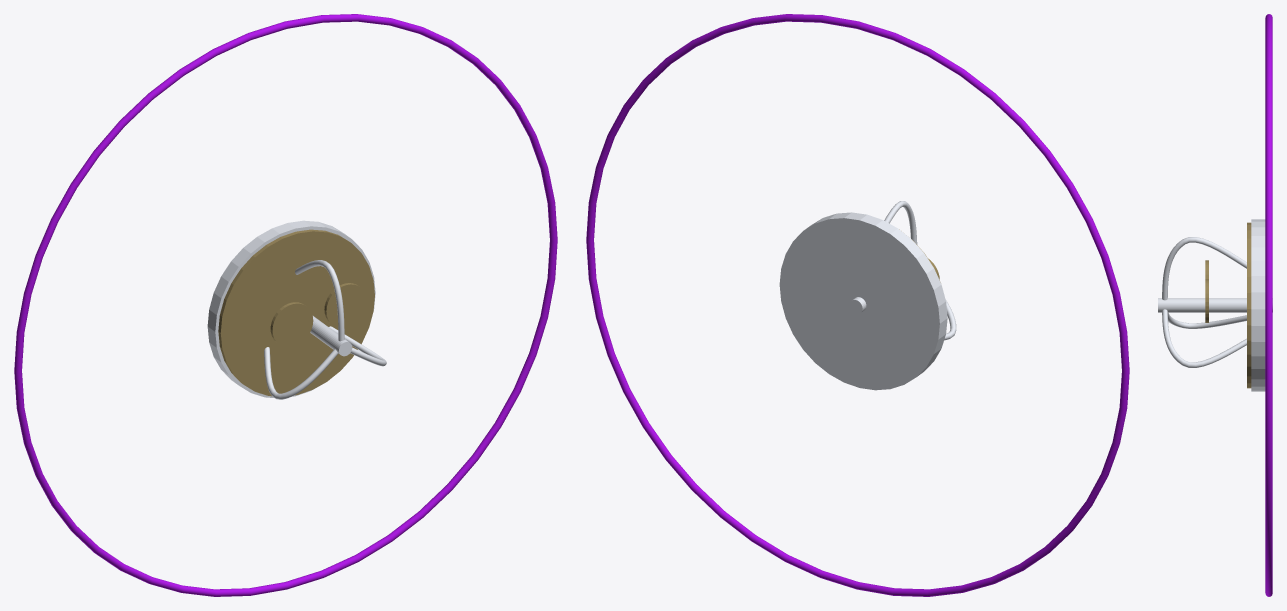
The model's file is adanat-18603.glb.
3 renders of one model, left to right at view 1: azimuth 30°, elevation 25°; view 2: azimuth 150°, elevation 25°; view 3: azimuth 270°, elevation 25°, orthographic. The views are drawn at different scales.
Visible parts, largest first — view 1: Cylinder.182, _outline.025, Cylinder.181, BézierCurve.001, Cylinder.184, Cylinder.183, Cylinder.180; view 2: Cylinder.181, _outline.025, BézierCurve.001; view 3: _outline.025, Cylinder.181, BézierCurve.001, Cylinder.180, Cylinder.182, Cylinder.183.
Boxes of the visible parts, <box> form: Cylinder.182: <box>218,229,374,396</box>; _outline.025: <box>14,14,557,596</box>; Cylinder.181: <box>207,220,375,397</box>; BézierCurve.001: <box>264,260,386,399</box>; Cylinder.184: <box>270,302,313,347</box>; Cylinder.183: <box>324,283,367,327</box>; Cylinder.180: <box>310,316,352,356</box>; Cylinder.181: <box>779,212,947,390</box>; _outline.025: <box>586,14,1129,596</box>; BézierCurve.001: <box>884,201,956,340</box>; _outline.025: <box>1265,14,1272,596</box>; Cylinder.181: <box>1251,219,1265,391</box>; BézierCurve.001: <box>1162,237,1246,367</box>; Cylinder.180: <box>1158,298,1272,312</box>; Cylinder.182: <box>1247,222,1251,388</box>; Cylinder.183: <box>1205,279,1208,322</box>.
Bounding box in the file's own units: 4.84 × 4.84 × 0.9546.
